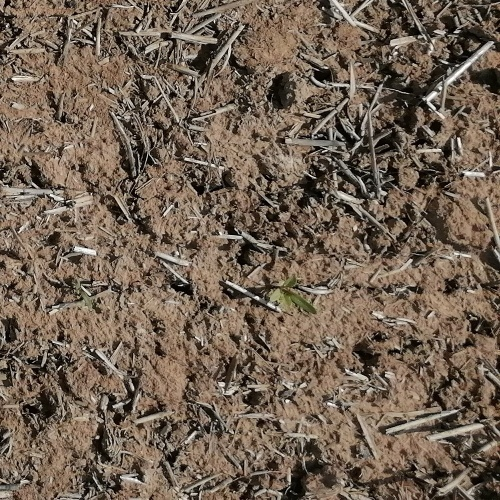beet: (271, 277, 319, 314)
